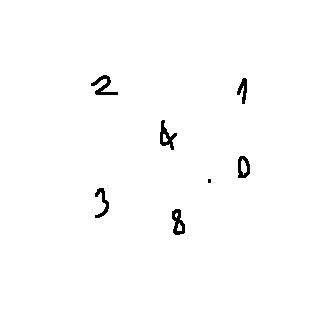.: (201, 171, 222, 192)
0: (232, 149, 261, 185)
1: (232, 73, 256, 110)
2: (86, 59, 126, 105)
3: (83, 179, 119, 223)
4: (149, 115, 185, 163)
8: (165, 201, 197, 241)
